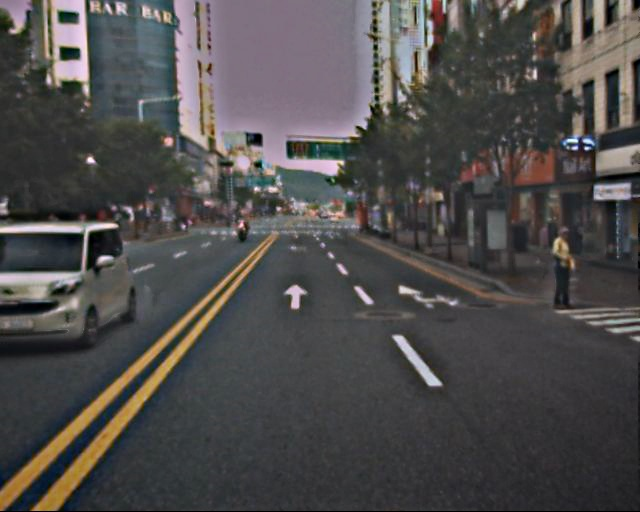person: (541, 227, 580, 314)
